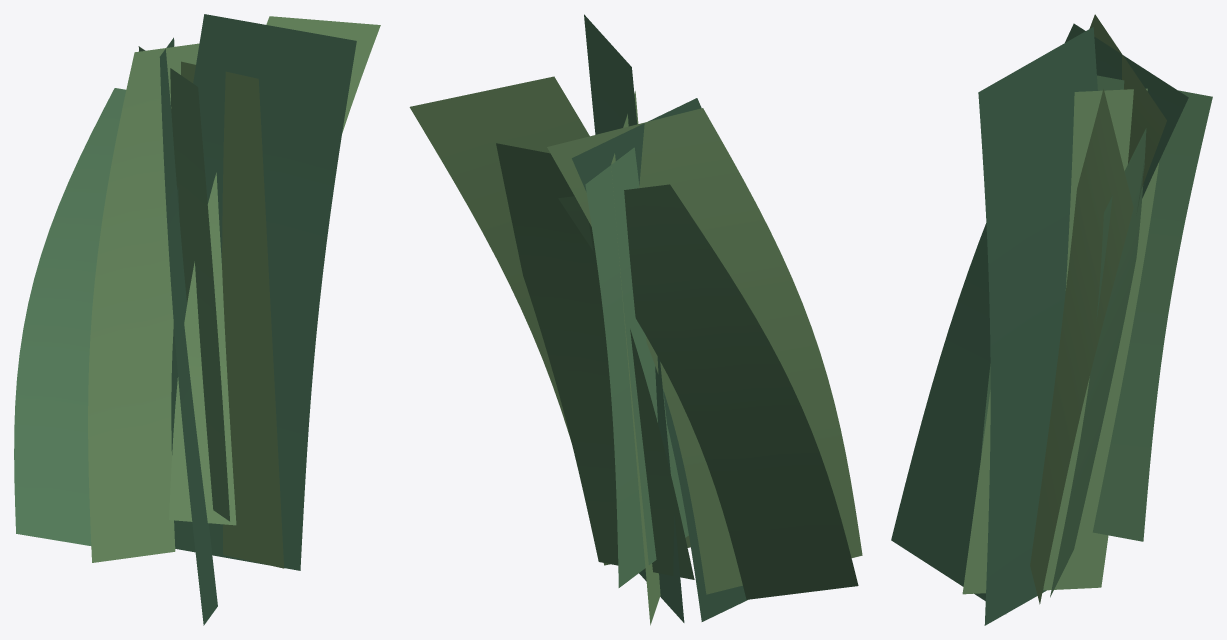
File: plant-fan-cluster.glb
3 views of the same model, side by side, from view 1: azimuth 30°, elevation 25°; view 2: azimuth 150°, elevation 25°; view 3: azimuth 270°, elevation 25° (orthographic). The views are drawn at different scales.
Bounding box in the file's own units: 1.4 × 1.87 × 0.9085.
